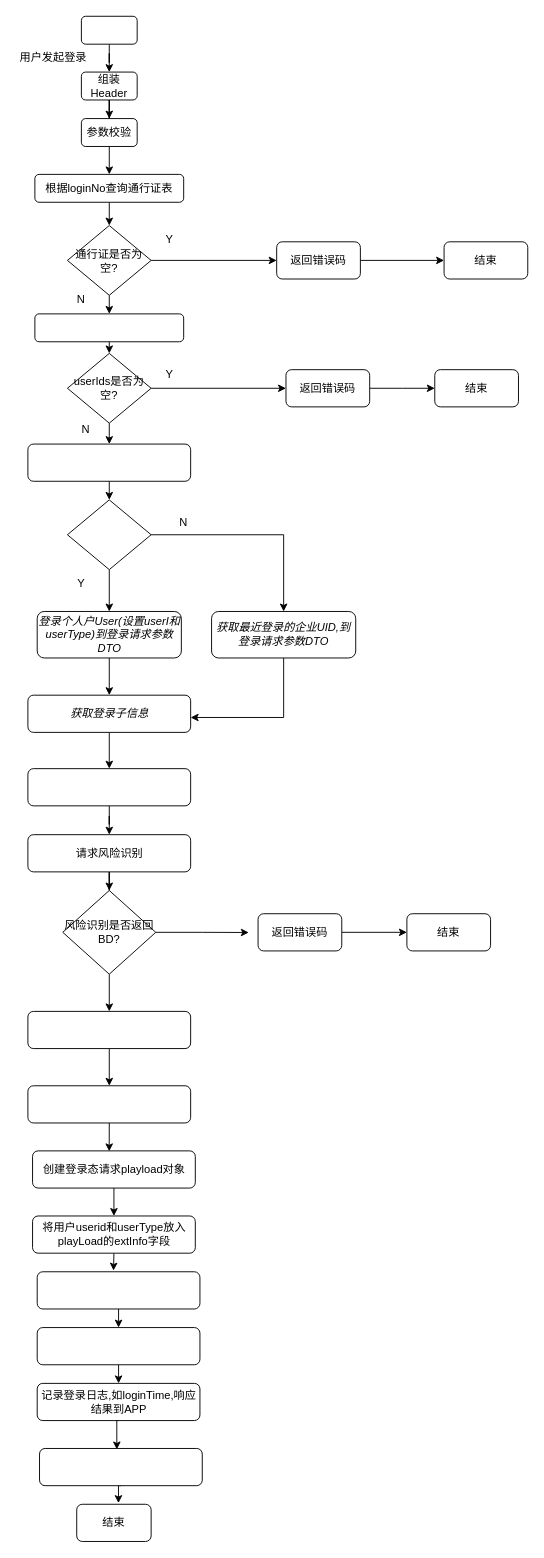
Image size: 544x1558. Some labels were removed from this diagram. The shapes that lost their labels are listed below. From the top down, each one's centre as x and y in pixels, then its label:
(x=108, y=29): 开始
(x=109, y=327): 根据通行证passId,查询userIds列表信息
(x=109, y=462): 在获取到userId的用户列表信息
(x=108, y=534): 用户是个人?
(x=109, y=787): 获取缓存风险识别请求参数,用户UID
(x=109, y=1029): 请求风险验证票据
(x=109, y=1104): 遍历登录handers集合
(x=118, y=1290): 请求授权服务获取登录态
(x=118, y=1346): 登录后置处理,如是否新设备处理
(x=120, y=1467): 上报登录动作到反欺诈服务
